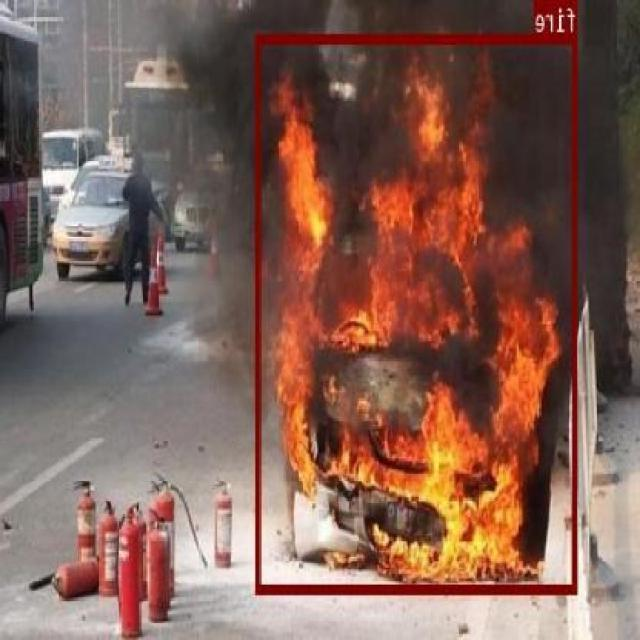Fire: (256, 32, 578, 592)
